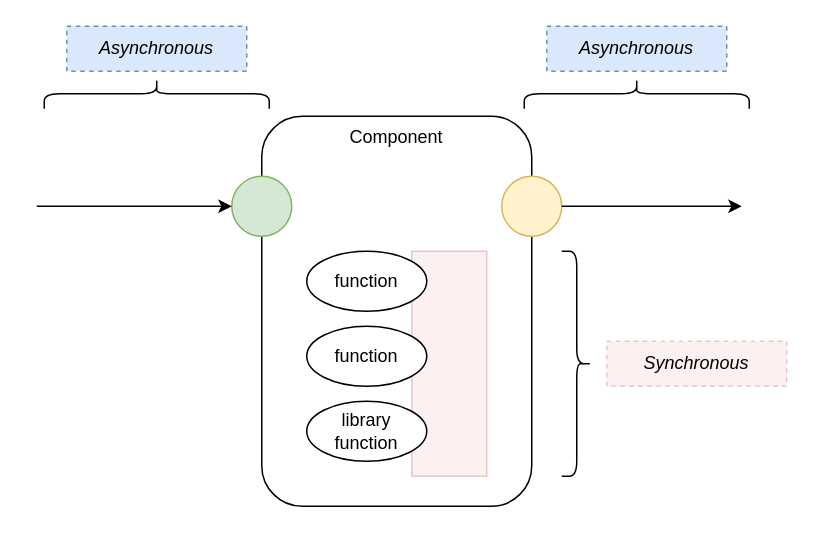
Image size: 813x533. Some labels were removed from this diagram. The shapes that lost their labels are listed below. From the top down, each one's centre as x and y in pixels, then its label:
At (x=261, y=205): "input port".
At (x=531, y=205): "output port".
At (x=448, y=363): "stack".
